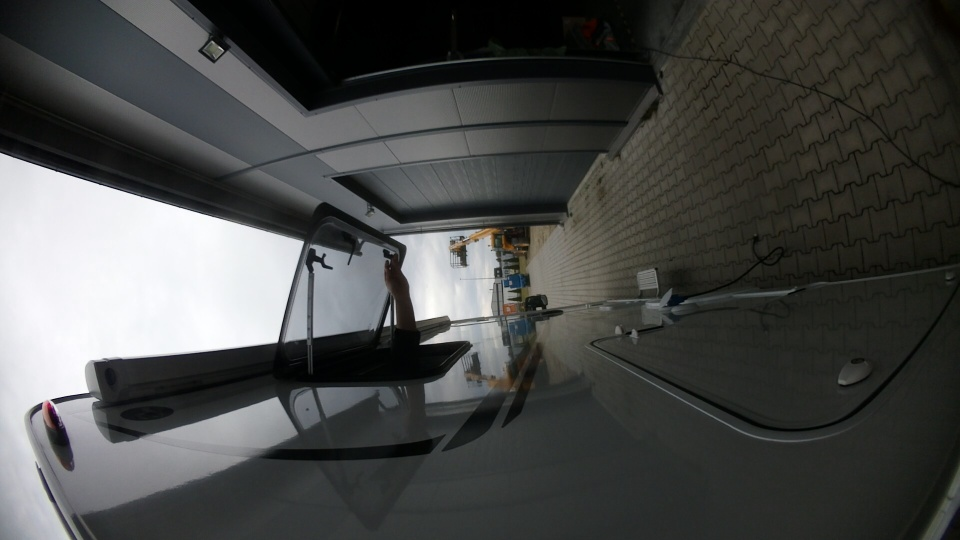step_back: (629, 261, 663, 298)
window_back: (269, 195, 466, 386)
